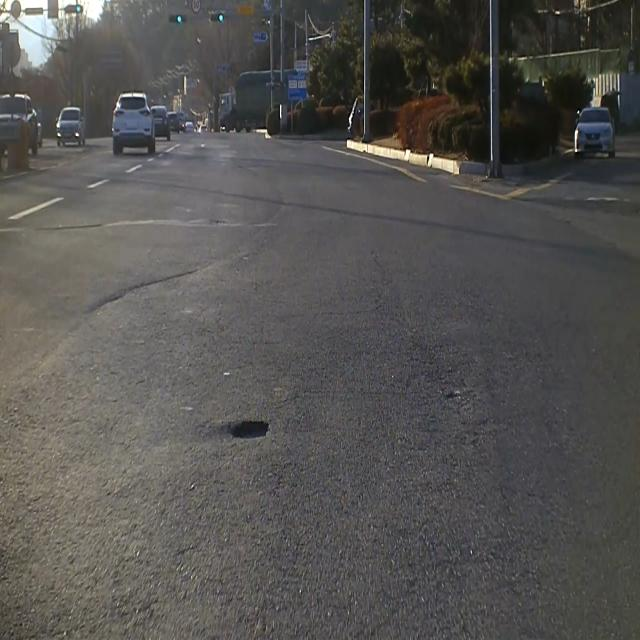Pothole: (224, 410, 273, 452)
